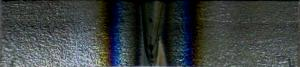soldas: (99, 0, 200, 67)
